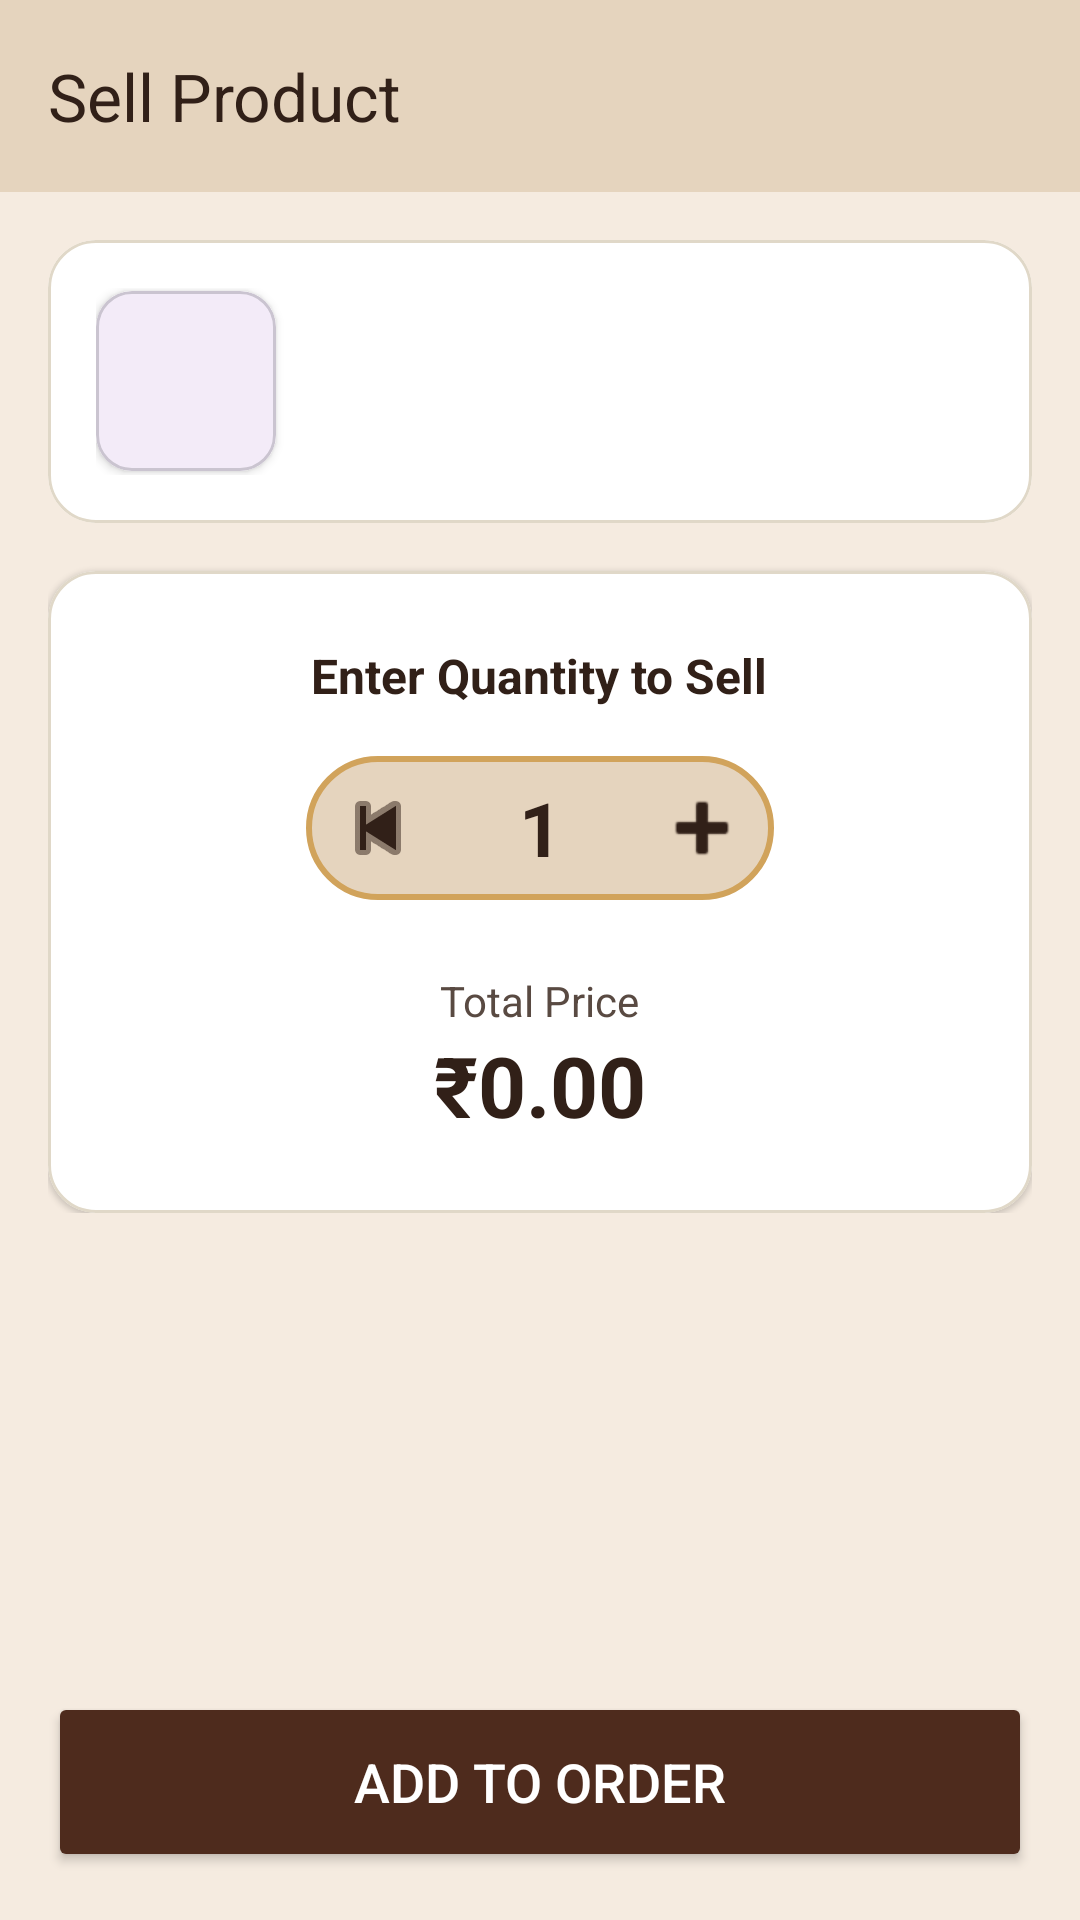

Icon bounding boxes for this 1080px×1920px phone screenshot, format (x1, y1, x2, y2):
add: (630, 756, 774, 900)
previous: (306, 756, 450, 900)
